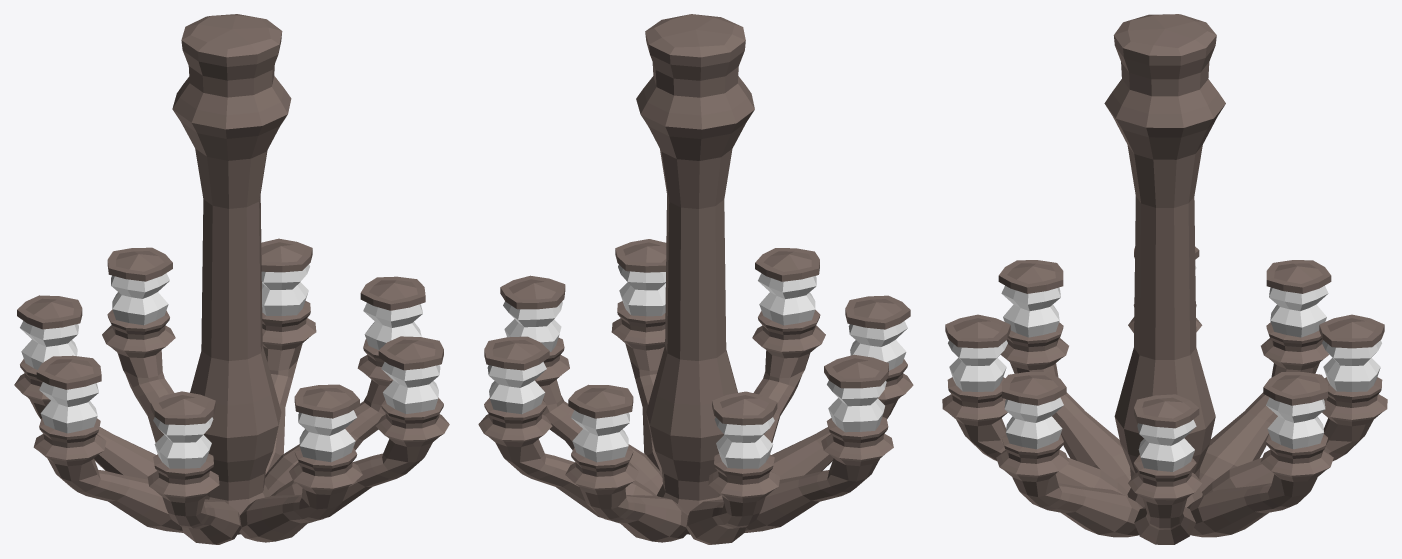
File: Chan.fbx
The picture shows the model from 3 angles, left to right: view 1: azimuth 30°, elevation 25°; view 2: azimuth 150°, elevation 25°; view 3: azimuth 270°, elevation 25°; orthographic projection.
Parts seen in each view (by area): view 1: Chan; view 2: Chan; view 3: Chan.
Boxes of the visible parts, x1,y1,x2,y2 form: Chan: (14, 14, 449, 544); Chan: (478, 14, 913, 544); Chan: (942, 14, 1387, 544).
Bounding box in the file's own units: 292 × 355 × 292.
